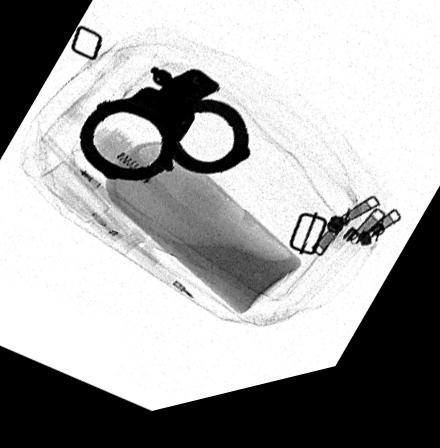HandCuffs: (78, 71, 250, 187)
